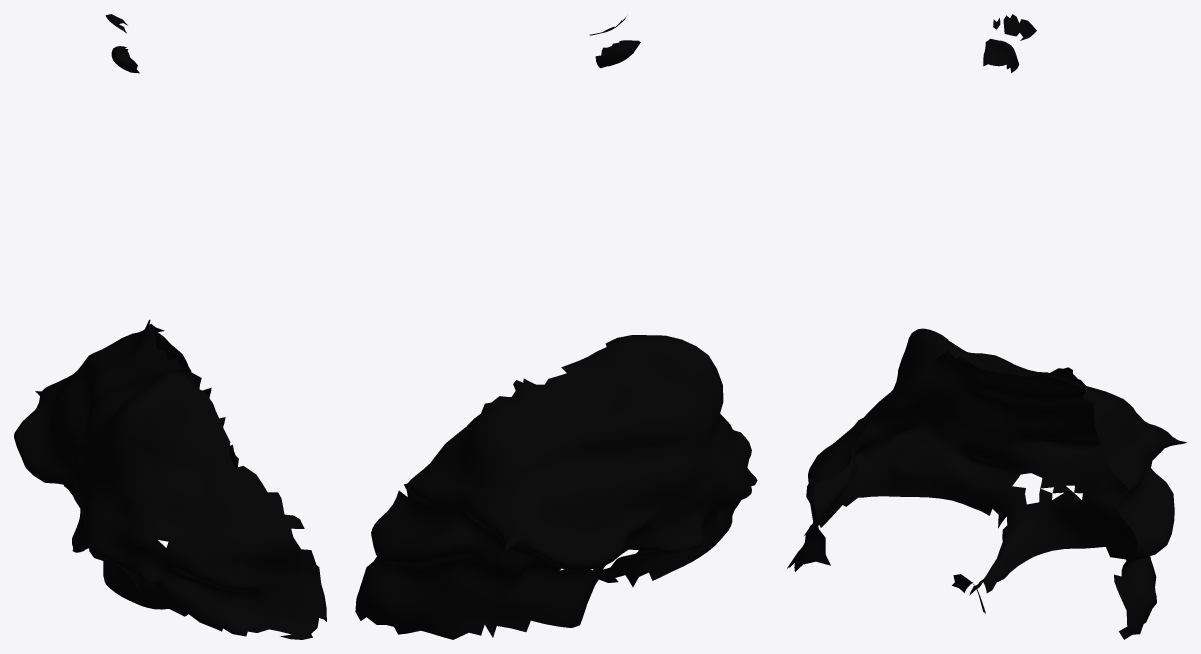
The model's file is CaderaBack.obj.
3 views of the same model, side by side, from view 1: azimuth 30°, elevation 25°; view 2: azimuth 150°, elevation 25°; view 3: azimuth 270°, elevation 25° (orthographic). The views are drawn at different scales.
Visible parts, largest first — view 1: CaderaBack; view 2: CaderaBack; view 3: CaderaBack.
Part boxes in pixels (left/top/right/bottom): CaderaBack: left=14, top=14, right=326, bottom=639; CaderaBack: left=355, top=16, right=757, bottom=639; CaderaBack: left=787, top=14, right=1186, bottom=639.
Bounding box in the file's own units: 0.8071 × 1.65 × 1.12.
Materials: 1 (1 with a texture image).
